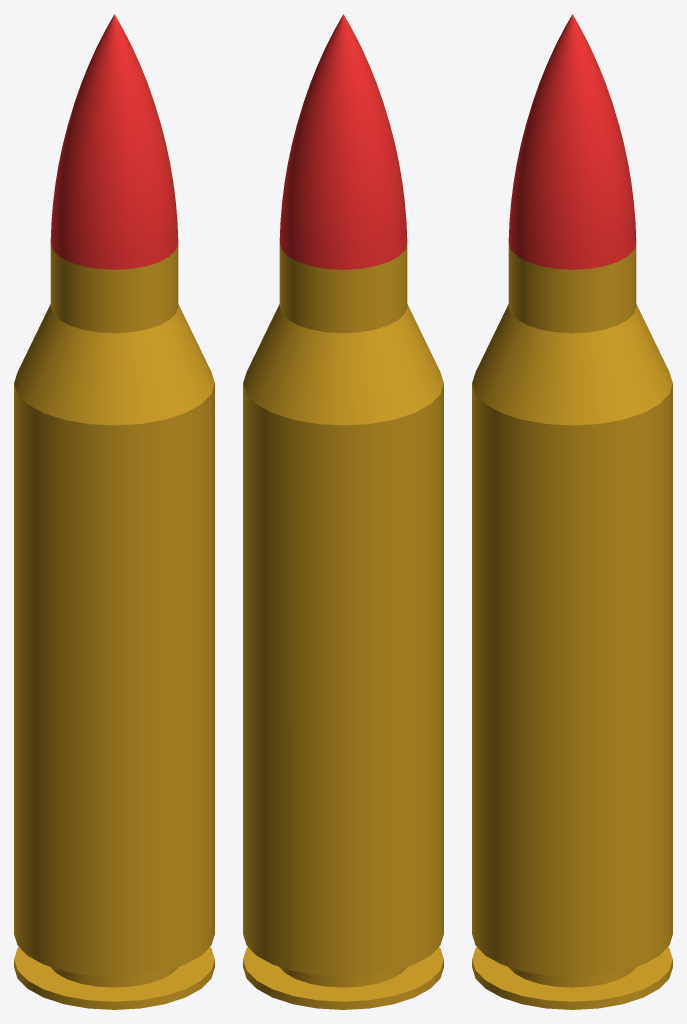
3 renders of one model, left to right at view 1: azimuth 30°, elevation 25°; view 2: azimuth 150°, elevation 25°; view 3: azimuth 270°, elevation 25°, orthographic.
Visible parts, largest first — view 1: Component_1 (×3); view 2: Component_1 (×3); view 3: Component_1 (×3).
Part boxes in pixels (x1=…): Component_1 (×3): x1=14, y1=14, x2=214, y2=1009; Component_1 (×3): x1=243, y1=14, x2=443, y2=1009; Component_1 (×3): x1=472, y1=14, x2=672, y2=1009.
Size of the model in its own units: 25.98 by 25.98 by 136.
